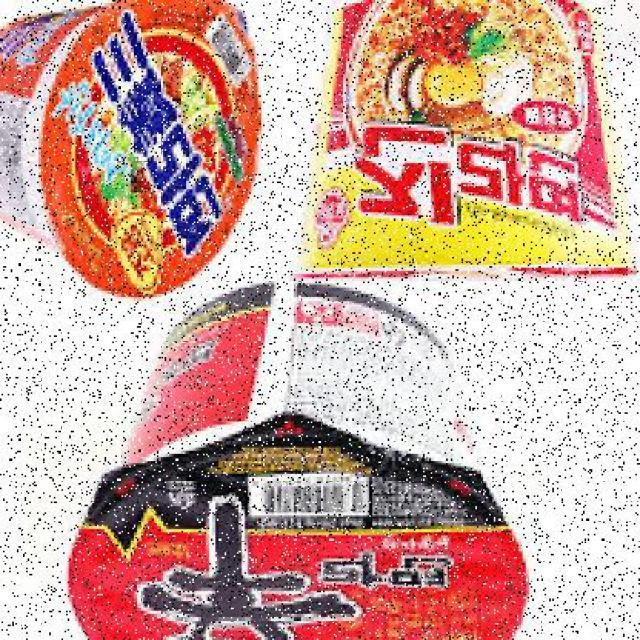Miscellaneous: (78, 281, 506, 640), (291, 0, 640, 291), (0, 0, 271, 305)
